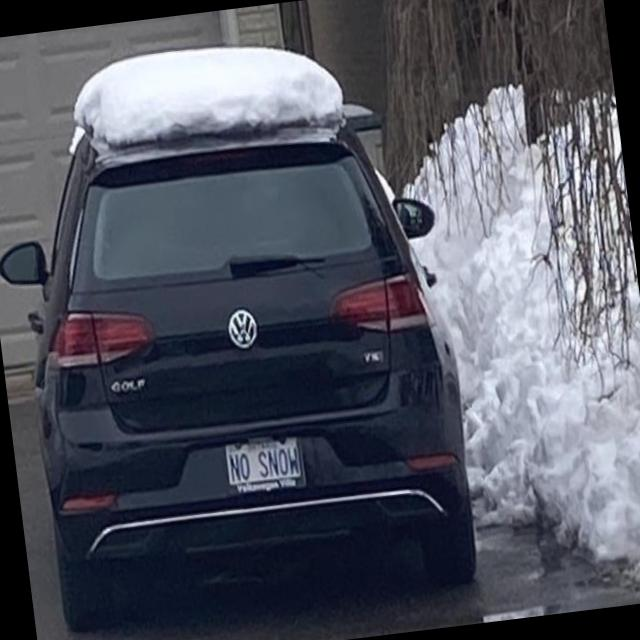LicensePlate: (219, 433, 307, 497)
